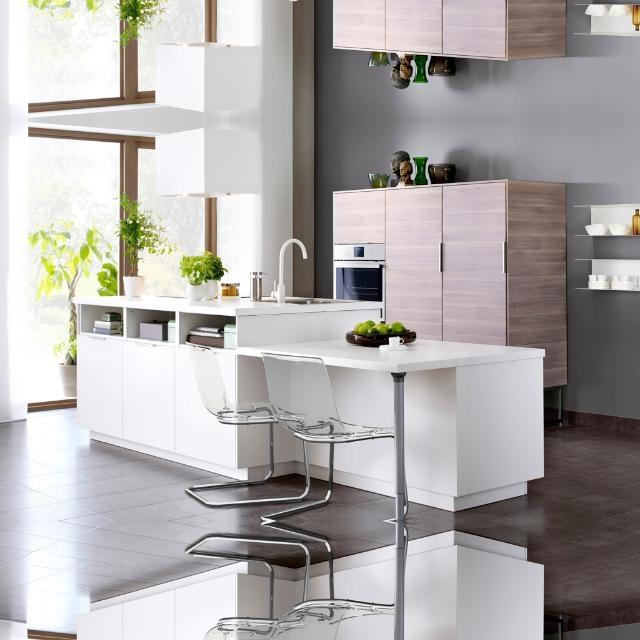obstacle: (68, 272, 548, 520), (68, 521, 548, 640)
